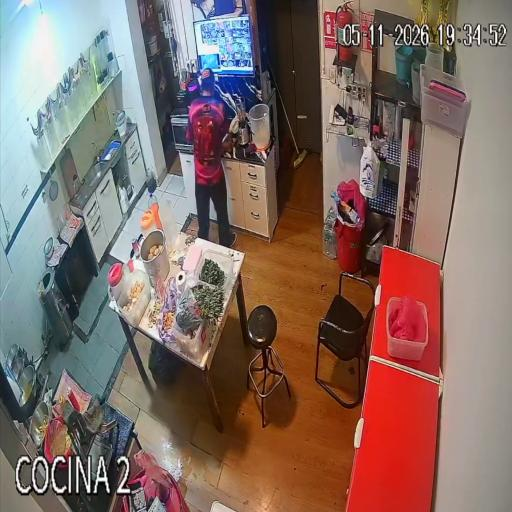Balde: (248, 104, 271, 151)
Envase Ketchup: (67, 388, 79, 411)
Envase Llajua: (58, 395, 66, 405)
Jarra1: (108, 263, 125, 300)
Jarra2: (141, 209, 157, 236)
Jarra3: (158, 195, 178, 247)
Microondas: (171, 111, 193, 151)
Persona1: (187, 68, 236, 247)
Taper: (194, 249, 236, 298)
Taper2: (173, 319, 206, 357)
Taper3: (118, 271, 150, 325)
Taper4: (386, 302, 428, 360), (386, 297, 399, 320)
Vaso1: (128, 259, 134, 272)
olla1: (140, 229, 169, 288)
